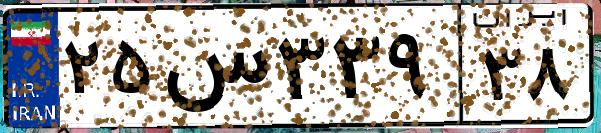2: (57, 26, 110, 100)
3: (270, 28, 330, 110), (330, 28, 385, 110), (475, 38, 525, 113)
5: (110, 28, 158, 98)
8: (525, 38, 570, 115)
9: (385, 28, 445, 110)
س: (158, 20, 270, 120)
